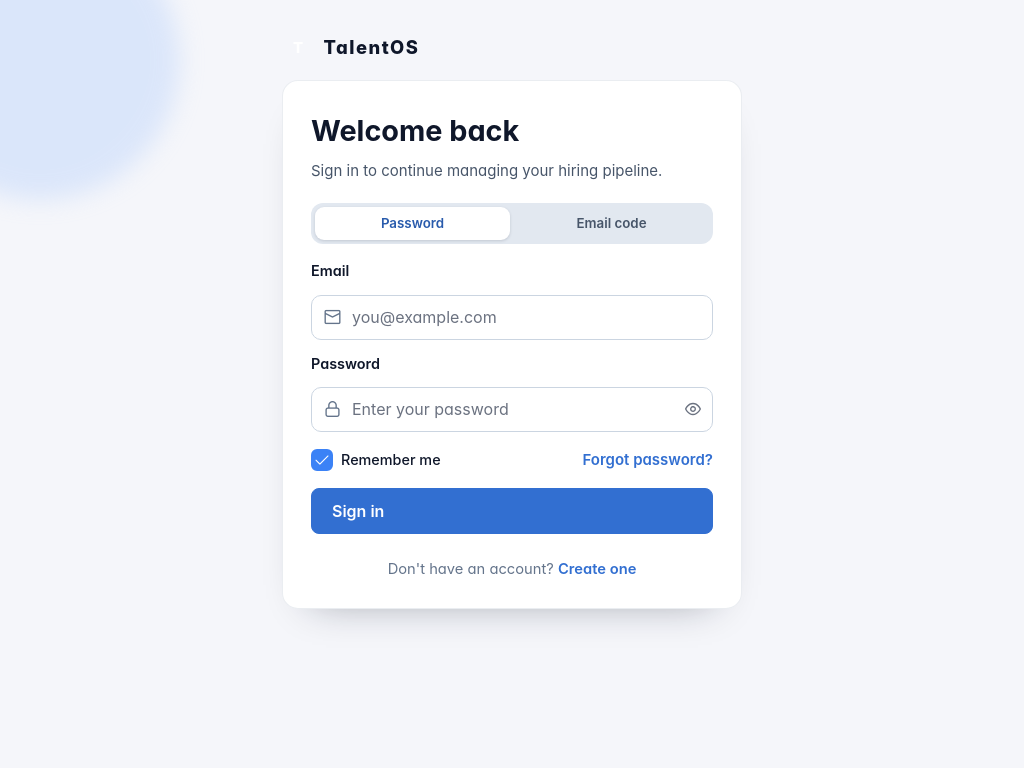
Scenario: SignIn view › shows the server error and stays on the page
Type "ada@example.com" into the field with id "email" at [512, 317], box [311, 295, 713, 340]
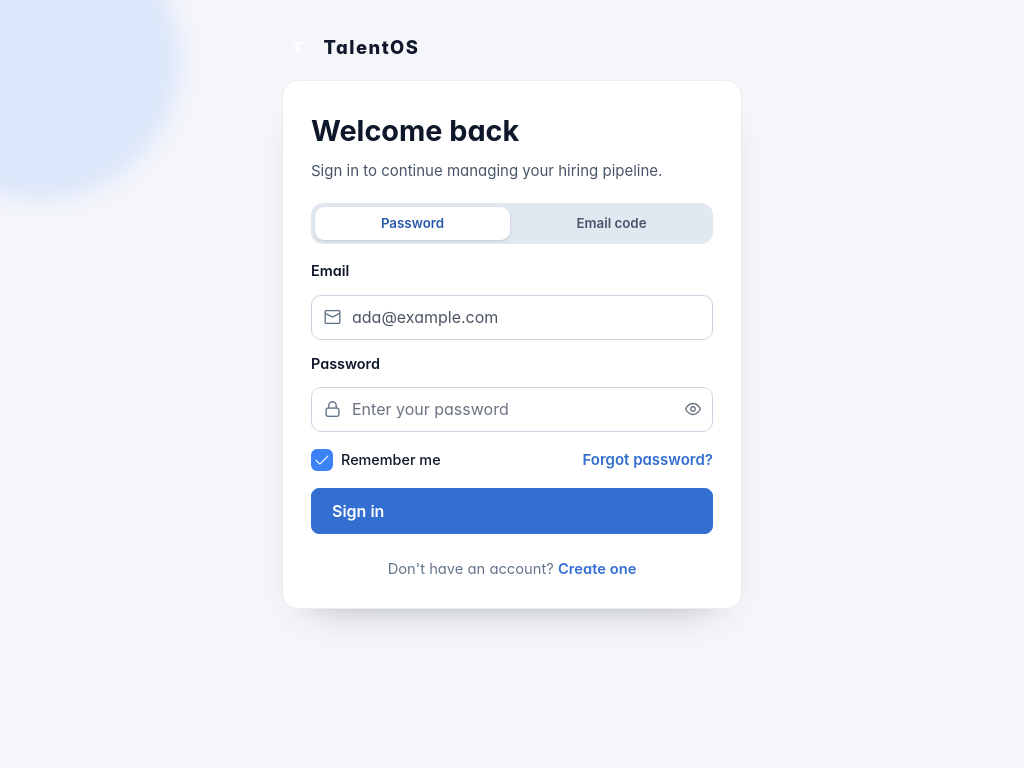
Type "wrong" into the password field with placeholder "Enter your password" at [512, 409], box [311, 387, 713, 432]
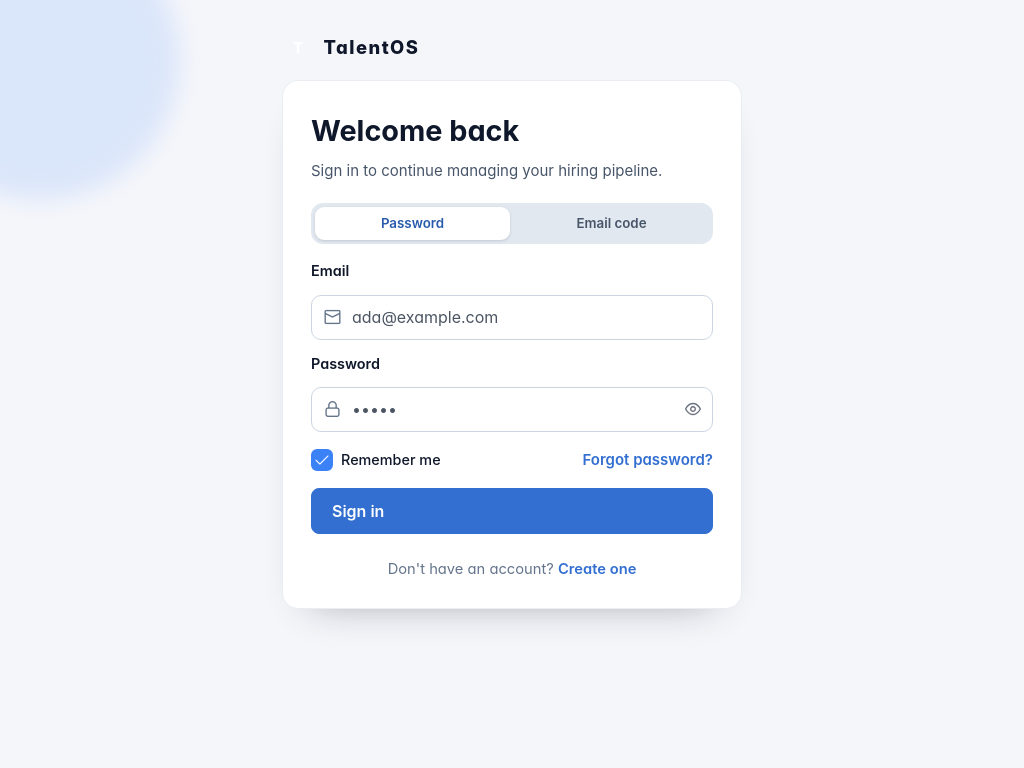
Submit the form, box [311, 260, 713, 580]
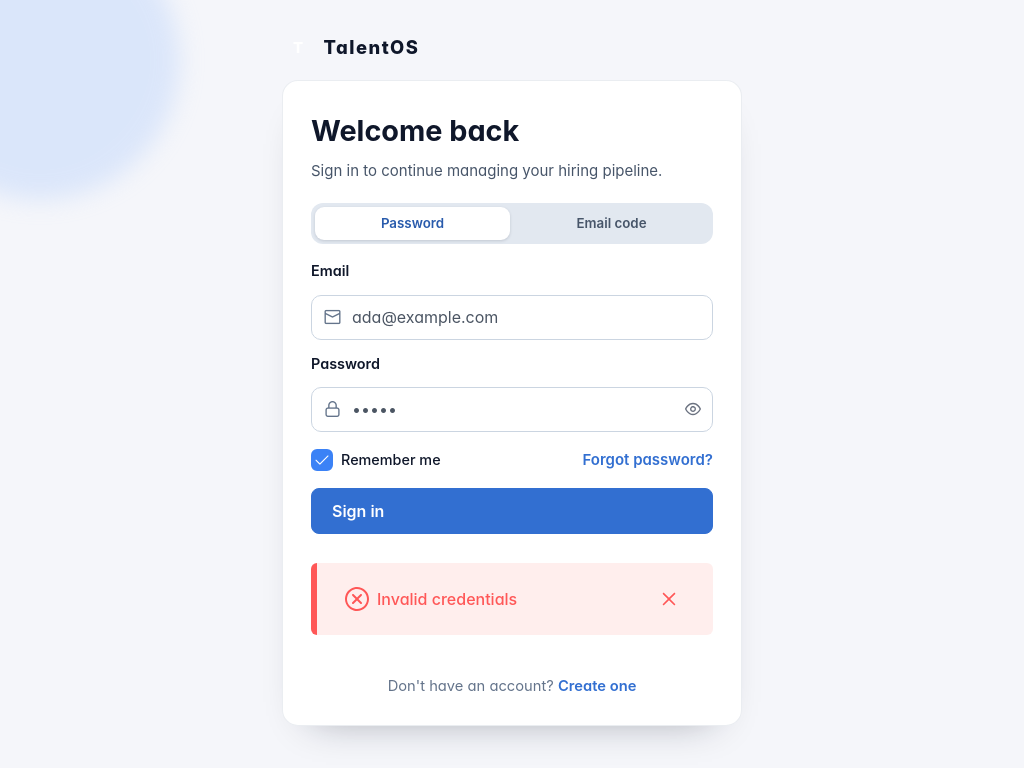
Result: the text "Invalid credentials" is shown at [377, 587, 517, 611]
